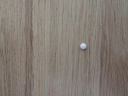Yuvarlak Buskopan: (79, 42, 87, 50)
